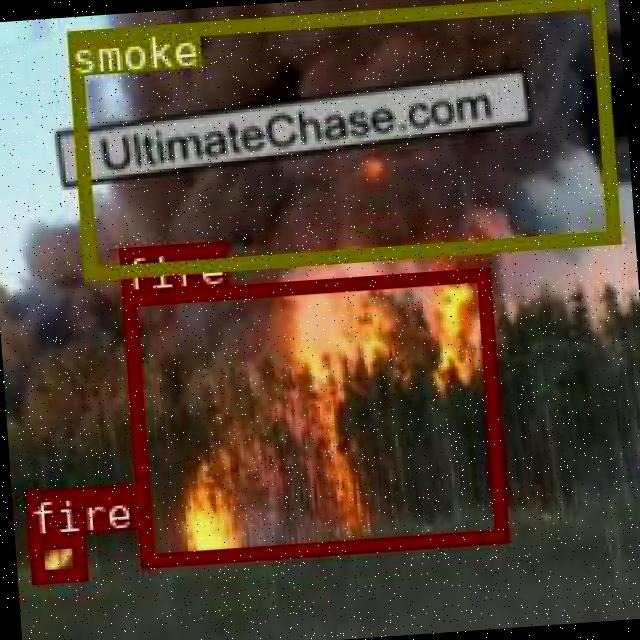fire: (118, 264, 506, 564), (27, 530, 84, 580)
smoke: (66, 0, 616, 276)
